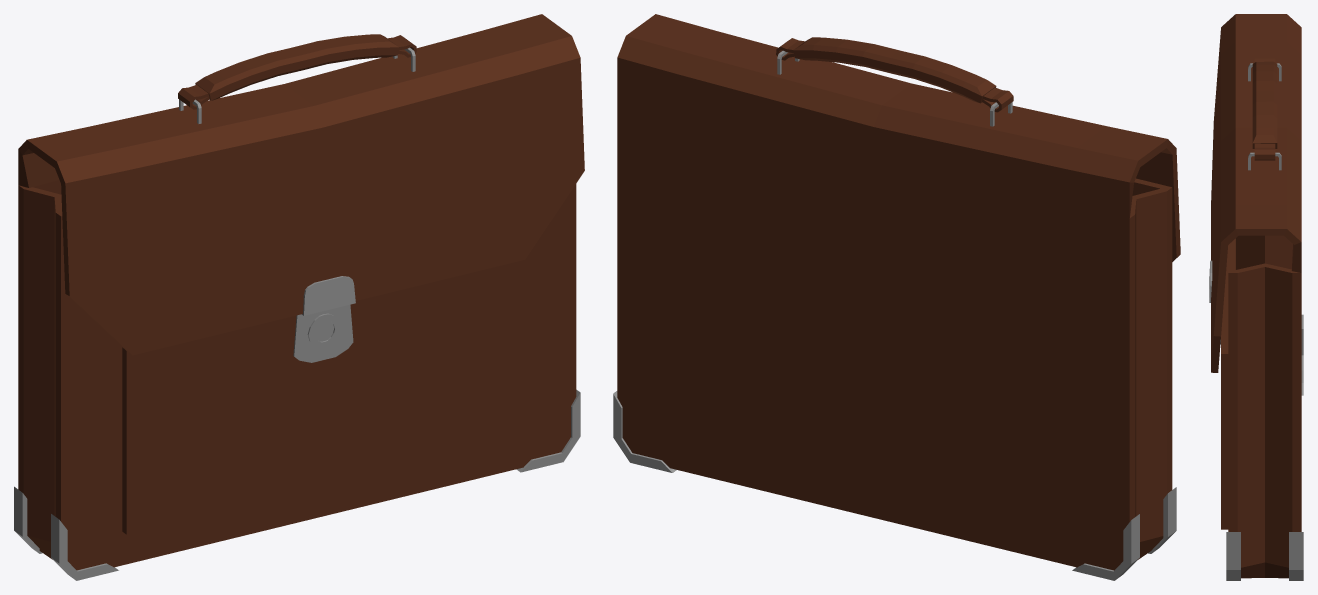
The model's file is 4portfel.glb.
The picture shows the model from 3 angles, left to right: view 1: azimuth 30°, elevation 25°; view 2: azimuth 150°, elevation 25°; view 3: azimuth 270°, elevation 25°; orthographic projection. The views are drawn at different scales.
Parts seen in each view (by area): view 1: Плоскость; view 2: Плоскость; view 3: Плоскость.
Boxes of the visible parts, x1,y1,x2,y2 form: Плоскость: [14, 14, 584, 580]; Плоскость: [613, 14, 1180, 580]; Плоскость: [1209, 14, 1303, 580].
Size of the model in its own units: 3.52 by 2.93 by 0.6459.
